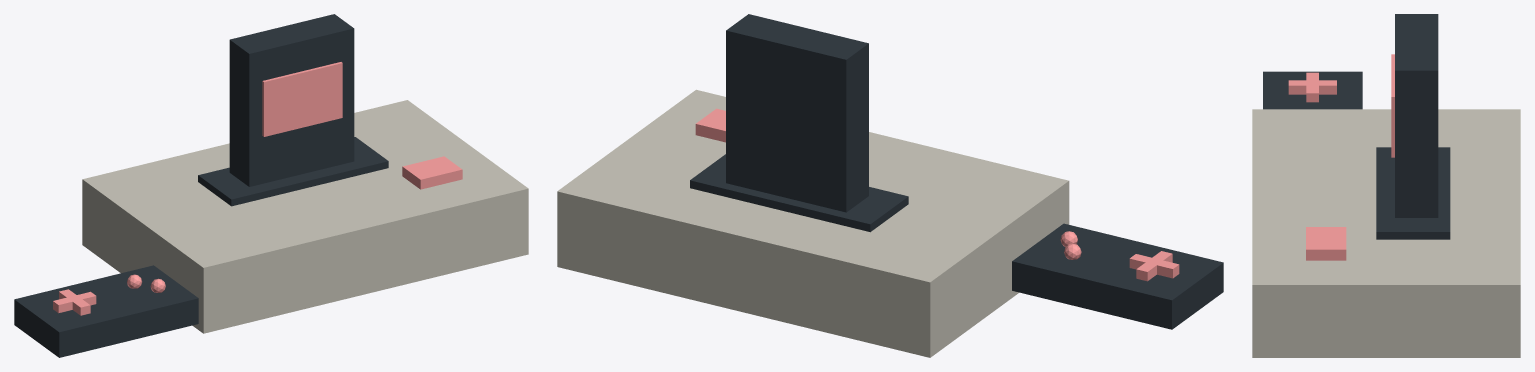
The model's file is cartridge-console-lod1.glb.
The picture shows the model from 3 angles, left to right: view 1: azimuth 30°, elevation 25°; view 2: azimuth 150°, elevation 25°; view 3: azimuth 270°, elevation 25°; orthographic projection. The views are drawn at different scales.
Visible parts, largest first — view 1: console, cartridge, controller_body, cartridge_label, slot, power_button, controller_dpad_h; view 2: console, cartridge, controller_body, slot, power_button, controller_dpad_h, controller_dpad_v; view 3: console, cartridge, slot, controller_body, power_button, controller_dpad_v, cartridge_label, controller_dpad_h.
Part boxes in pixels (bbox=[...]): console: bbox=[82, 100, 528, 333]; cartridge: bbox=[229, 14, 354, 186]; controller_body: bbox=[14, 265, 198, 357]; cartridge_label: bbox=[262, 62, 342, 136]; slot: bbox=[198, 137, 388, 206]; power_button: bbox=[402, 156, 462, 189]; controller_dpad_h: bbox=[53, 291, 96, 313]; console: bbox=[557, 89, 1069, 357]; cartridge: bbox=[726, 14, 868, 212]; controller_body: bbox=[1012, 223, 1223, 329]; slot: bbox=[690, 154, 908, 232]; power_button: bbox=[695, 108, 725, 142]; controller_dpad_h: bbox=[1129, 254, 1179, 278]; controller_dpad_v: bbox=[1136, 251, 1172, 281]; console: bbox=[1252, 109, 1520, 357]; cartridge: bbox=[1395, 14, 1438, 217]; slot: bbox=[1376, 147, 1450, 239]; controller_body: bbox=[1263, 71, 1362, 109]; power_button: bbox=[1306, 227, 1346, 260]; controller_dpad_v: bbox=[1288, 80, 1336, 94]; cartridge_label: bbox=[1391, 54, 1394, 157]; controller_dpad_h: bbox=[1306, 72, 1318, 102].
Size of the model in its own units: 8.86 by 3.75 by 4.
